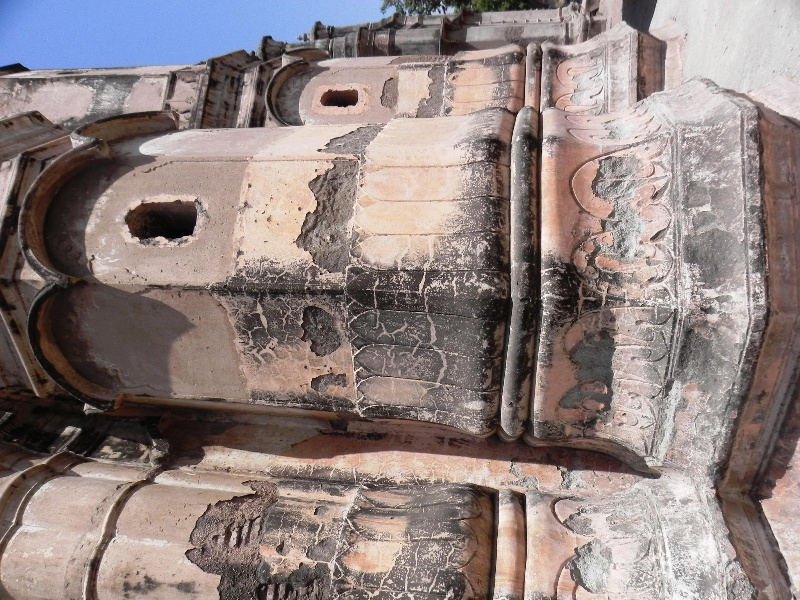Spalling: (177, 475, 331, 597), (293, 122, 395, 277), (298, 301, 350, 368), (567, 330, 626, 387), (376, 77, 408, 114)
